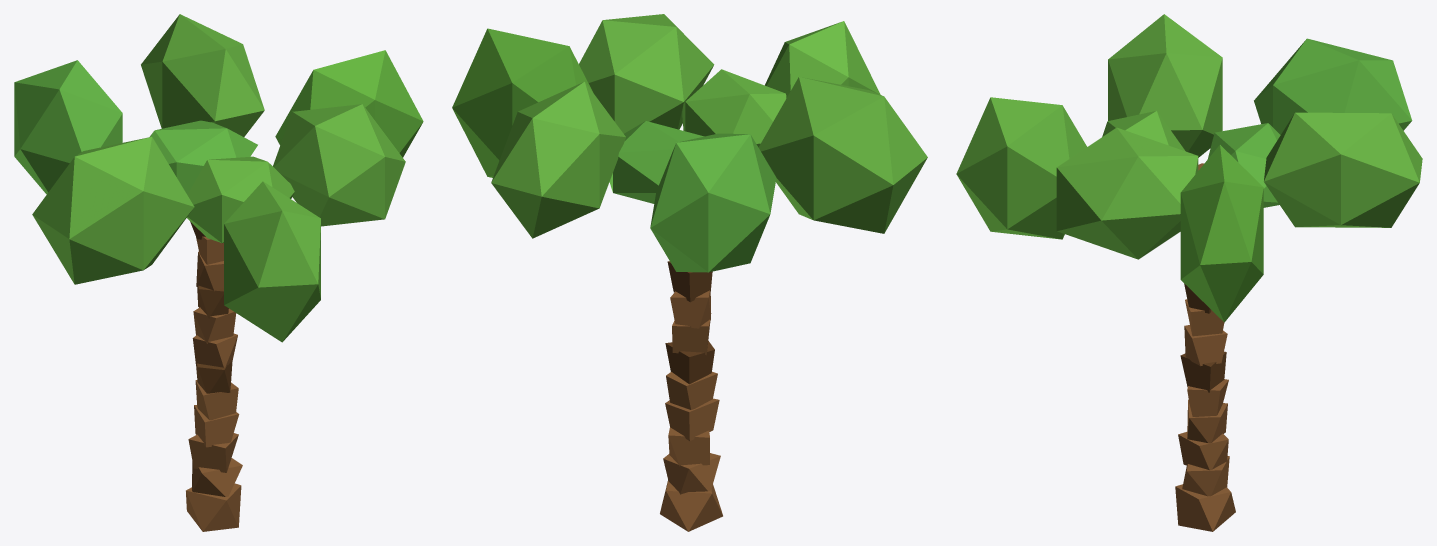
The model's file is palm_bloom_far.glb.
3 views of the same model, side by side, from view 1: azimuth 30°, elevation 25°; view 2: azimuth 150°, elevation 25°; view 3: azimuth 270°, elevation 25° (orthographic). The views are drawn at different scales.
Visible parts, largest first — view 1: palm_bloom_far; view 2: palm_bloom_far; view 3: palm_bloom_far.
Boxes of the visible parts, x1,y1,x2,y2 form: palm_bloom_far: (14, 14, 423, 531); palm_bloom_far: (452, 14, 927, 531); palm_bloom_far: (956, 14, 1422, 531).
Bounding box in the file's own units: 5.67 × 5.89 × 5.72.
